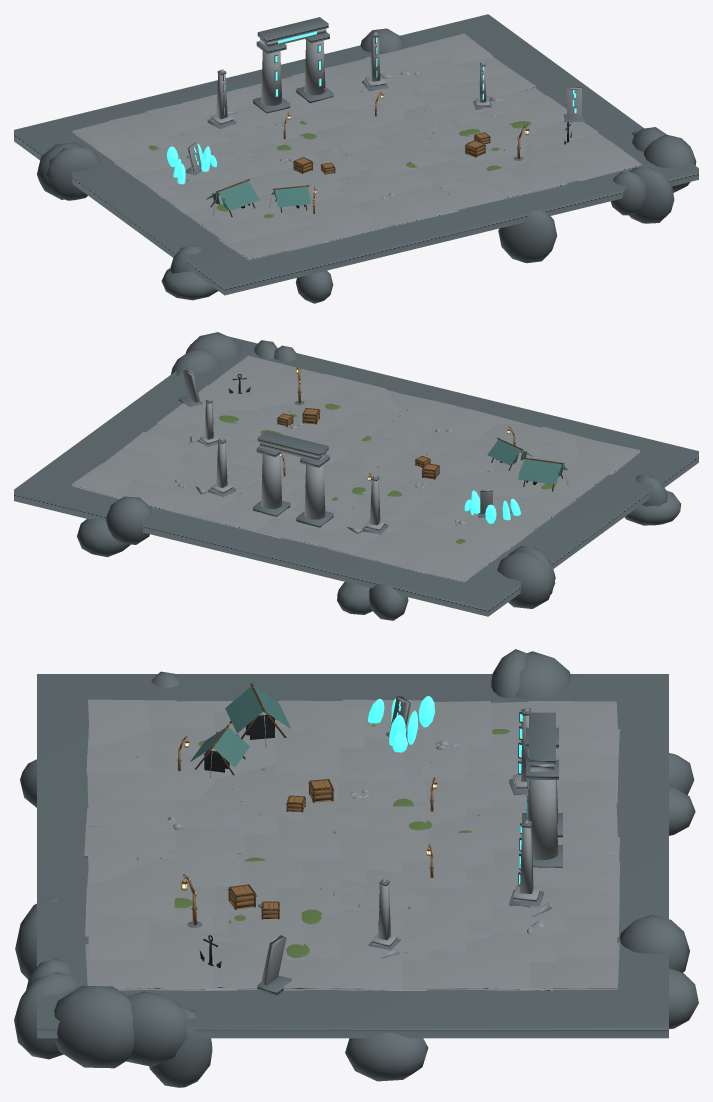
The model's file is 3D模型 scene_ruins_plaza.glb.
3 views of the same model, one above another, from view 1: azimuth 30°, elevation 25°; view 2: azimuth 150°, elevation 25°; view 3: azimuth 270°, elevation 25° (orthographic). The views are drawn at different scales.
Visible parts, largest first — view 1: plaza_base, plaza_edge_05, plaza_edge_02, plaza_edge_09, slab_5_0, slab_8_0, plaza_edge_03, slab_0_3, slab_2_0, slab_9_0, slab_9_7, slab_0_0 (+76 smaller); view 2: plaza_base, plaza_edge_10, plaza_edge_00, slab_0_5, slab_5_0, slab_7_7, slab_9_7, slab_0_7, slab_8_0, plaza_edge_04, slab_2_7, slab_0_3 (+71 smaller); view 3: plaza_base, plaza_edge_03, plaza_edge_11, slab_5_0, plaza_edge_07, slab_8_0, slab_0_5, slab_9_7, slab_0_3, slab_5_4, slab_9_6, slab_7_7 (+85 smaller).
Part boxes in pixels (x1,y1,x2,y2): plaza_base: (14, 14, 698, 295); plaza_edge_05: (498, 203, 557, 263); plaza_edge_02: (47, 146, 101, 200); plaza_edge_09: (629, 167, 674, 223); slab_5_0: (403, 184, 494, 214); slab_8_0: (512, 160, 602, 187); plaza_edge_03: (644, 134, 696, 192); slab_0_3: (165, 176, 229, 214); slab_2_0: (293, 204, 384, 243); slab_9_0: (570, 141, 641, 181); slab_9_7: (402, 33, 492, 64); slab_0_0: (218, 234, 309, 260); plaza_base: (14, 336, 698, 616); plaza_edge_10: (497, 551, 555, 608); plaza_edge_00: (106, 496, 152, 544); slab_0_5: (444, 515, 534, 551); slab_5_0: (389, 392, 456, 427); slab_7_7: (147, 481, 236, 515); slab_9_7: (72, 463, 135, 499); slab_0_7: (402, 549, 492, 582); slab_8_0: (270, 365, 348, 401); plaza_edge_04: (77, 519, 130, 557); slab_2_7: (328, 532, 419, 563); slab_0_3: (493, 492, 577, 516); plaza_base: (37, 674, 668, 1038); plaza_edge_03: (54, 986, 134, 1068); plaza_edge_11: (126, 991, 187, 1066); slab_5_0: (87, 834, 176, 882); plaza_edge_07: (345, 1032, 428, 1081); slab_8_0: (88, 914, 177, 960); slab_0_5: (415, 701, 492, 746); slab_9_7: (529, 943, 619, 989); slab_0_3: (278, 700, 366, 747); slab_5_4: (339, 833, 428, 872); slab_9_6: (464, 940, 552, 990); slab_7_7: (530, 887, 619, 937).
Bounding box in the file's own units: 27.86 × 6.97 × 21.68.
